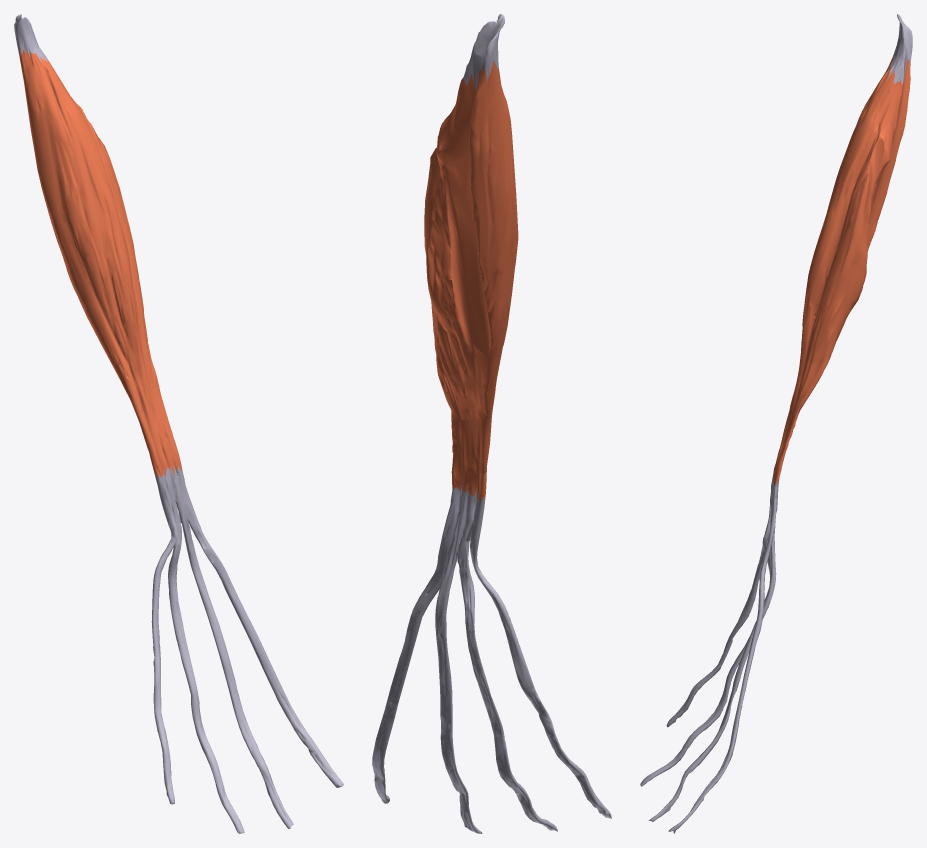
File: Flexor_digitorum_profundus.l_Generated_Mesh_From_X3D.500.glb
3 renders of one model, left to right at view 1: azimuth 30°, elevation 25°; view 2: azimuth 150°, elevation 25°; view 3: azimuth 270°, elevation 25°, orthographic. The views are drawn at different scales.
Parts seen in each view (by area): view 1: Flexor_digitorum_profundus.l_Generated_Mesh_From_X3D.500; view 2: Flexor_digitorum_profundus.l_Generated_Mesh_From_X3D.500; view 3: Flexor_digitorum_profundus.l_Generated_Mesh_From_X3D.500.
Part boxes in pixels (box(x1,y1,x2,y2)): Flexor_digitorum_profundus.l_Generated_Mesh_From_X3D.500: box(14, 14, 343, 833); Flexor_digitorum_profundus.l_Generated_Mesh_From_X3D.500: box(372, 14, 611, 833); Flexor_digitorum_profundus.l_Generated_Mesh_From_X3D.500: box(640, 14, 912, 833).
Size of the model in its own units: 0.1065 by 0.3651 by 0.1221.
